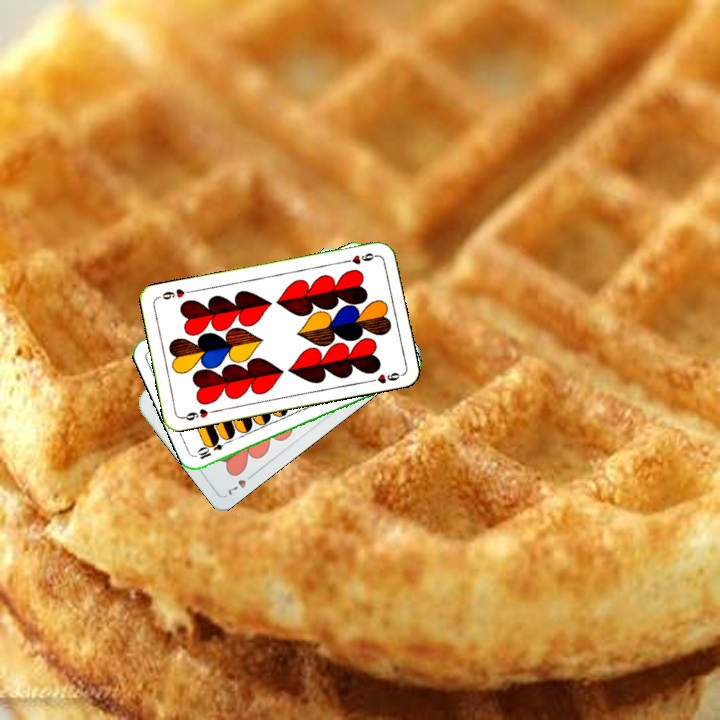E10: (193, 435, 232, 462)
H7: (223, 469, 258, 498)
H9: (339, 249, 380, 267), (178, 405, 218, 423)
